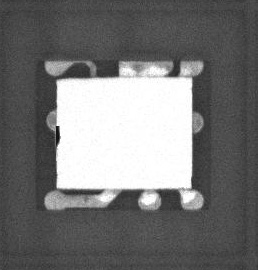DIE_BROKEN: (54, 124, 61, 148)
